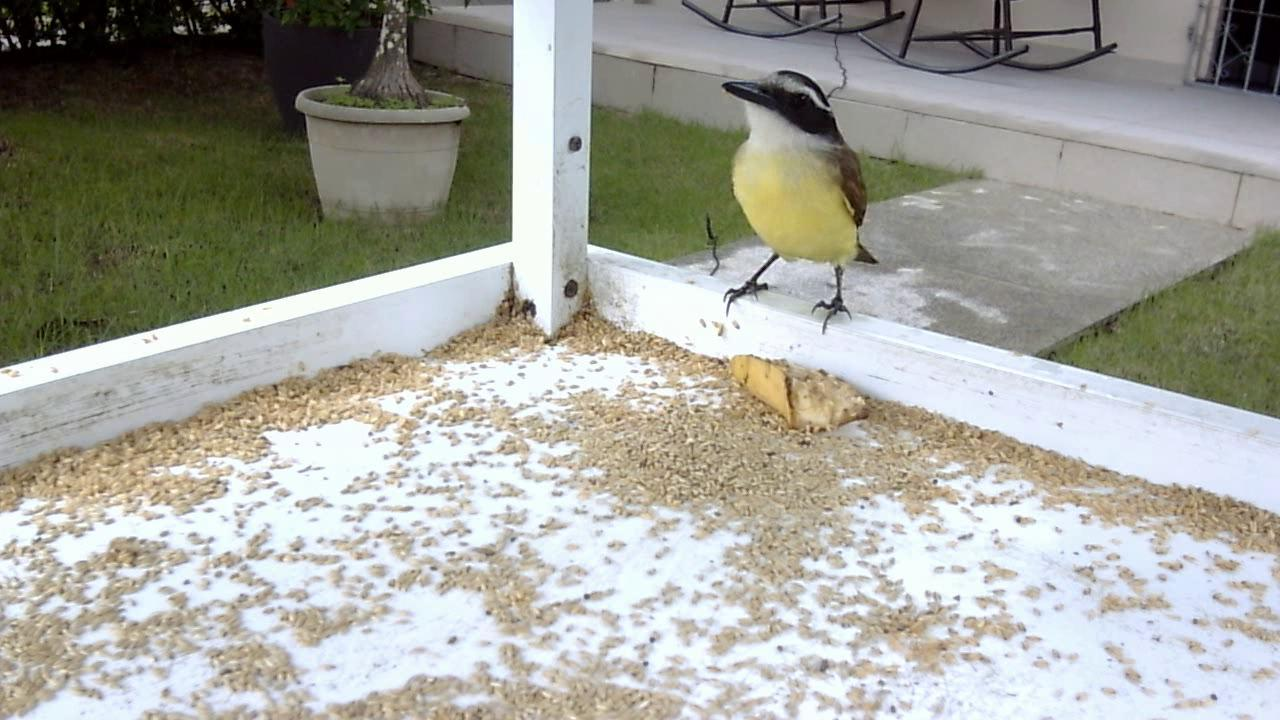bem_te_vi: (692, 51, 890, 349)
